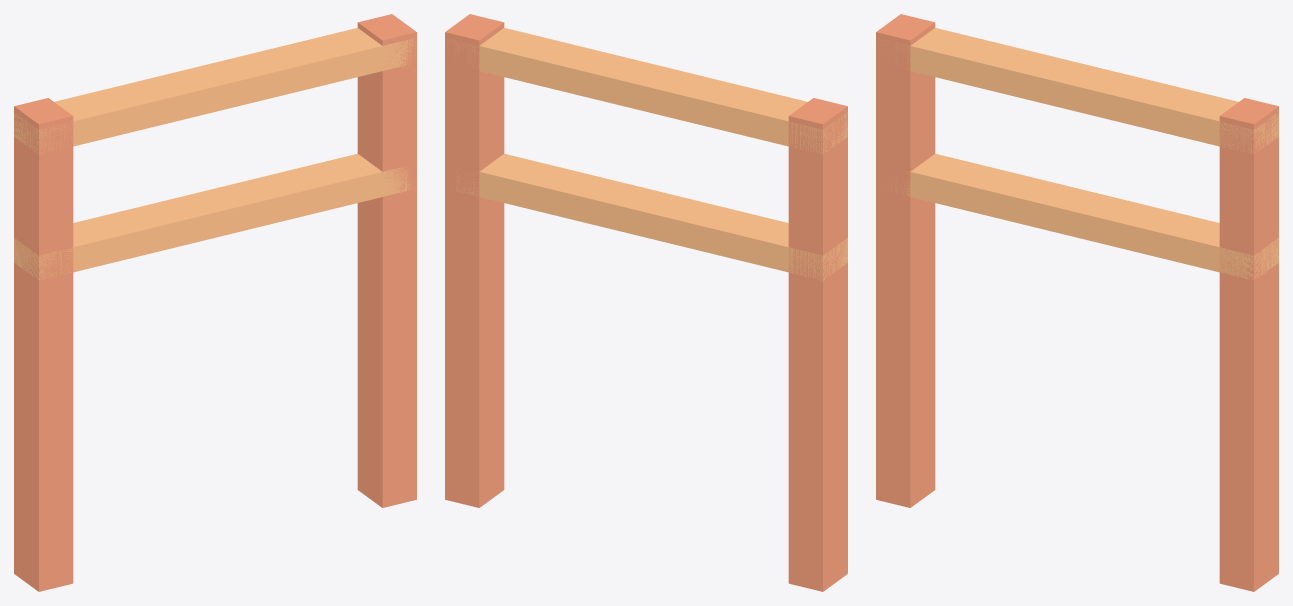
File: bridge-tower.glb
The picture shows the model from 3 angles, left to right: view 1: azimuth 30°, elevation 25°; view 2: azimuth 150°, elevation 25°; view 3: azimuth 330°, elevation 25°; orthographic projection.
Parts seen in each view (by area): view 1: Part0, Part1; view 2: Part0, Part1; view 3: Part0, Part1.
Part boxes in pixels (box(x1,y1,x2,y2)): Part0: box(14, 14, 416, 591); Part1: box(14, 28, 416, 280); Part0: box(445, 14, 847, 591); Part1: box(445, 28, 847, 280); Part0: box(876, 14, 1278, 591); Part1: box(879, 28, 1278, 280).
Bounding box in the file's own units: 22 × 26 × 2.5.
